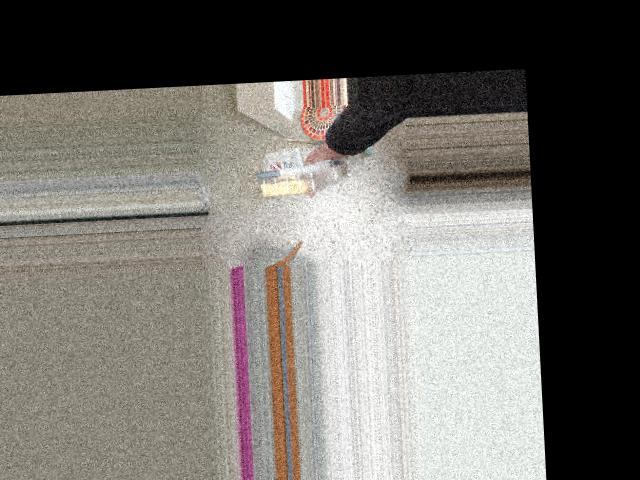cheese: (252, 111, 331, 222)
